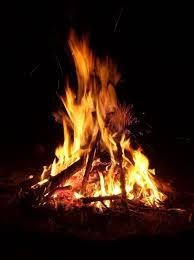fire: (44, 29, 157, 206)
